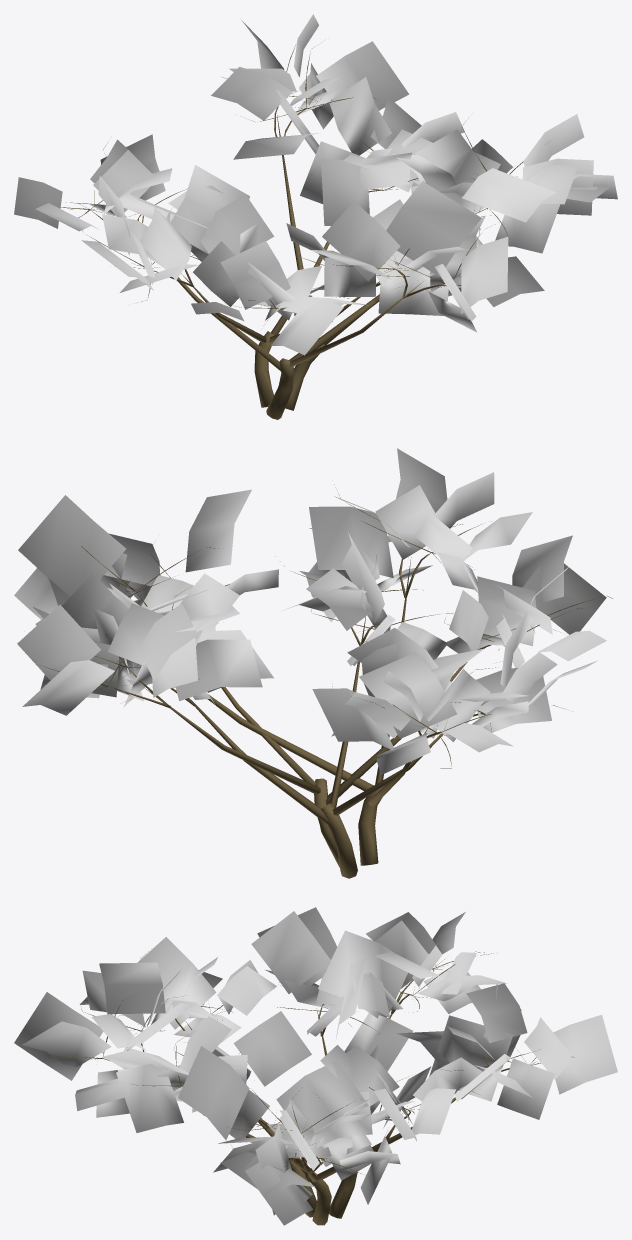
File: V7_Lentisque_1_Niveau2.fbx
3 renders of one model, top to bottom at view 1: azimuth 30°, elevation 25°; view 2: azimuth 150°, elevation 25°; view 3: azimuth 270°, elevation 25°, orthographic. The views are drawn at different scales.
Parts seen in each view (by area): view 1: V7_Lentisque_1_Detail2; view 2: V7_Lentisque_1_Detail2; view 3: V7_Lentisque_1_Detail2.
Boxes of the visible parts, x1,y1,x2,y2 form: V7_Lentisque_1_Detail2: [14, 14, 617, 419]; V7_Lentisque_1_Detail2: [14, 448, 612, 878]; V7_Lentisque_1_Detail2: [14, 907, 617, 1225].
Size of the model in its own units: 347 by 178 by 357.
